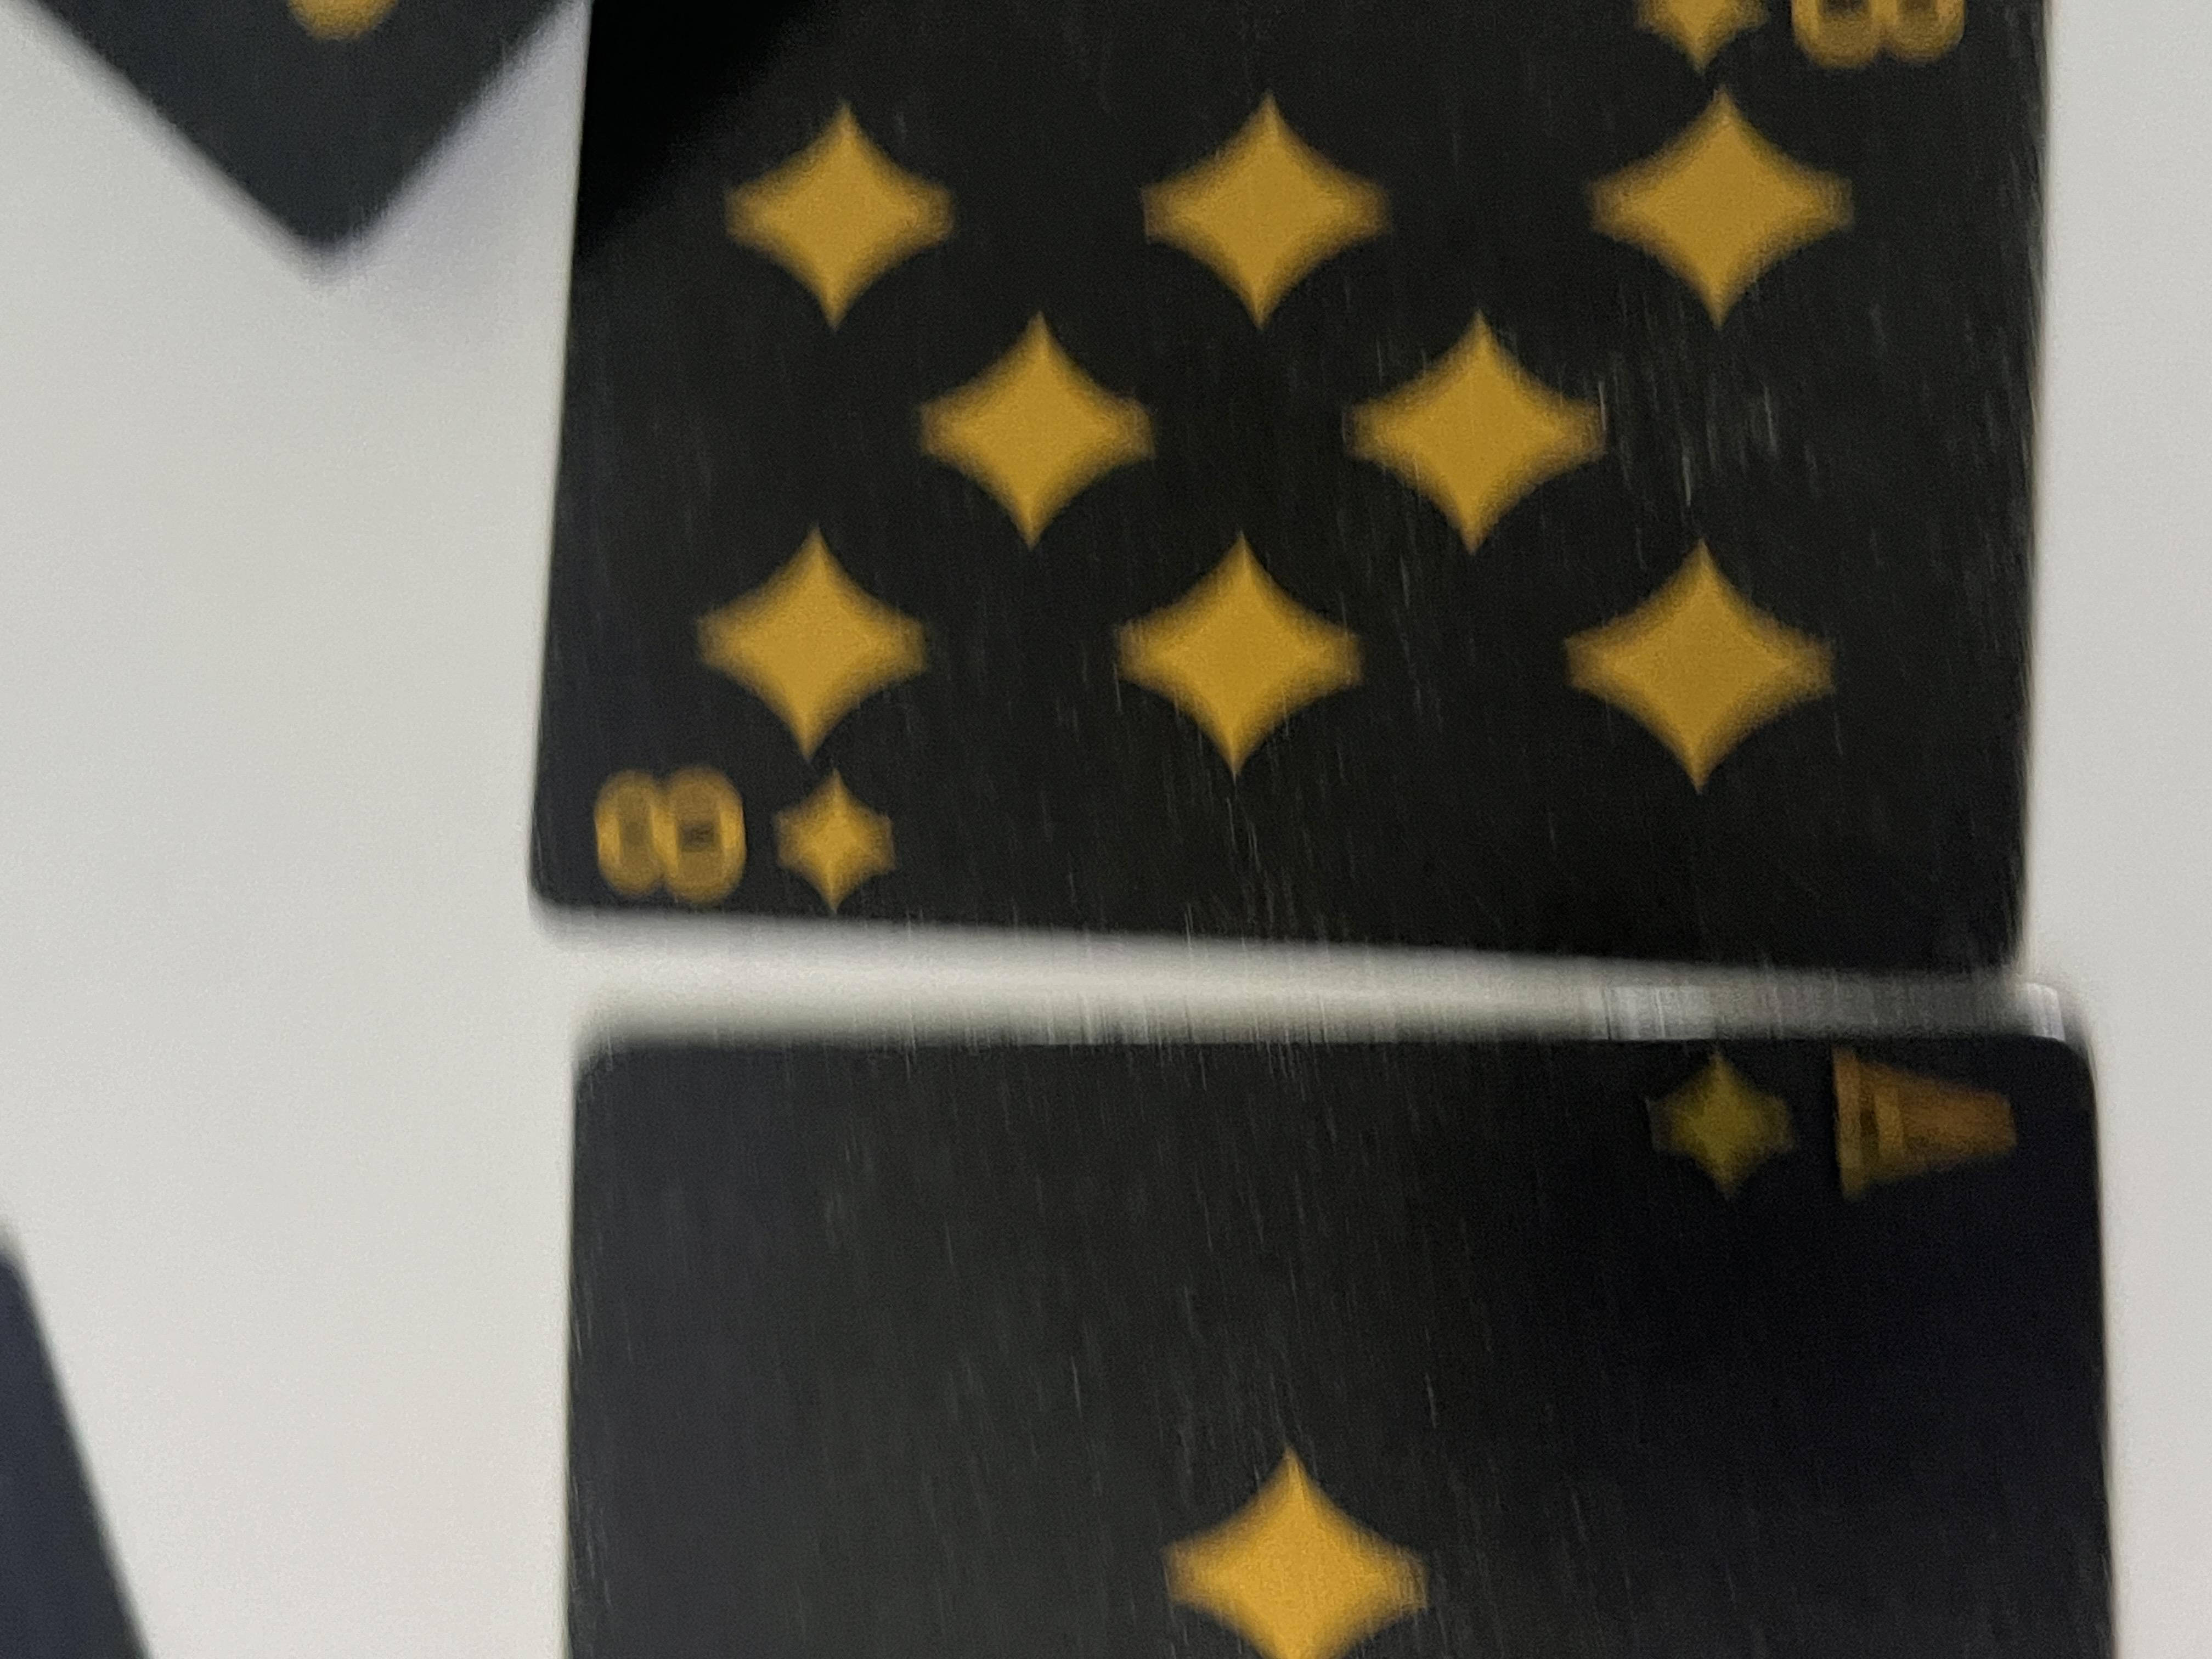8D: (974, 415, 1207, 681), (2121, 1223, 2212, 1485)
AD: (592, 1243, 845, 1525)
